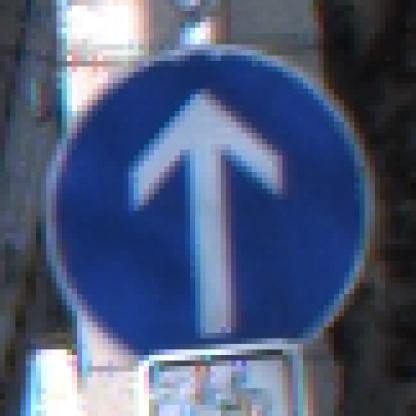AheadOnly: (42, 40, 381, 384)
